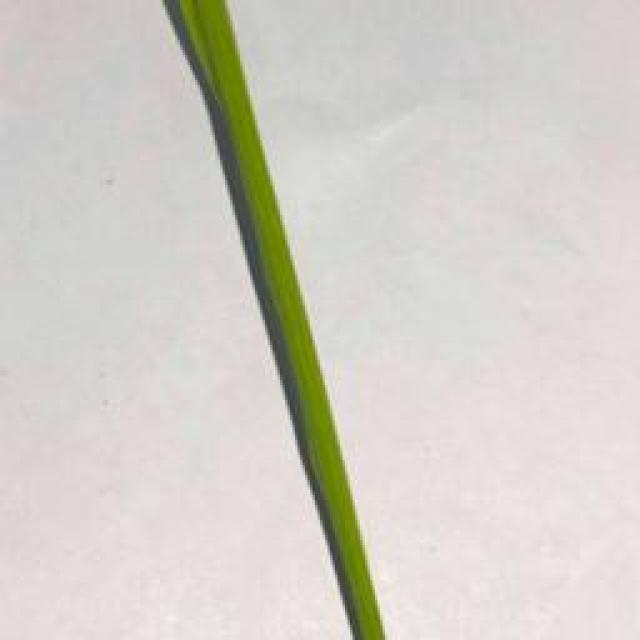Healthy-Plant: (180, 0, 384, 640)
